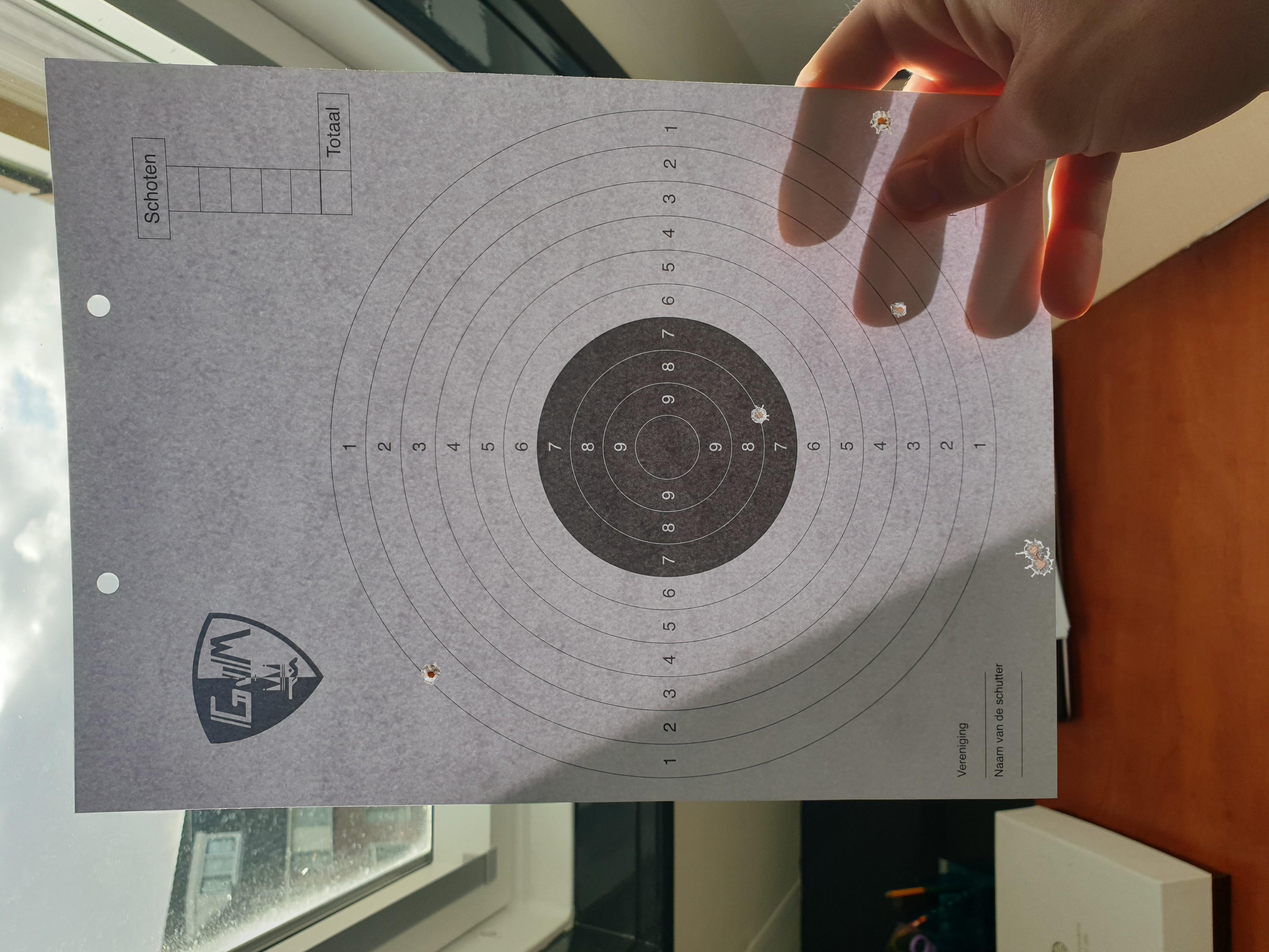hole: (868, 109, 893, 134), (418, 661, 442, 687), (1020, 537, 1046, 560), (1029, 556, 1053, 578), (750, 405, 770, 424), (890, 299, 908, 319)
